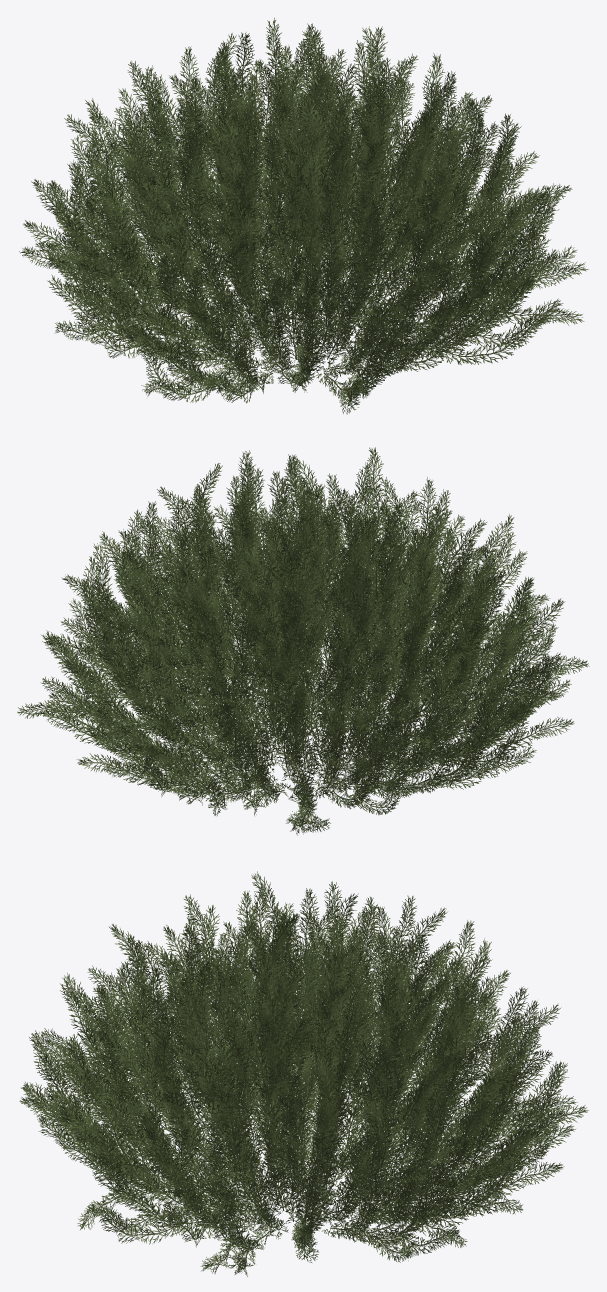
The model's file is Artemisia_Californica_02.fbx.
3 renders of one model, top to bottom at view 1: azimuth 30°, elevation 25°; view 2: azimuth 150°, elevation 25°; view 3: azimuth 270°, elevation 25°, orthographic. The views are drawn at different scales.
Parts seen in each view (by area): view 1: Artemisia_californica_B001; view 2: Artemisia_californica_B001; view 3: Artemisia_californica_B001.
Part boxes in pixels (x1,y1,x2,y2): Artemisia_californica_B001: (19, 17, 588, 414); Artemisia_californica_B001: (17, 447, 589, 835); Artemisia_californica_B001: (19, 871, 588, 1276).
Size of the model in its own units: 167 by 94.9 by 167.
